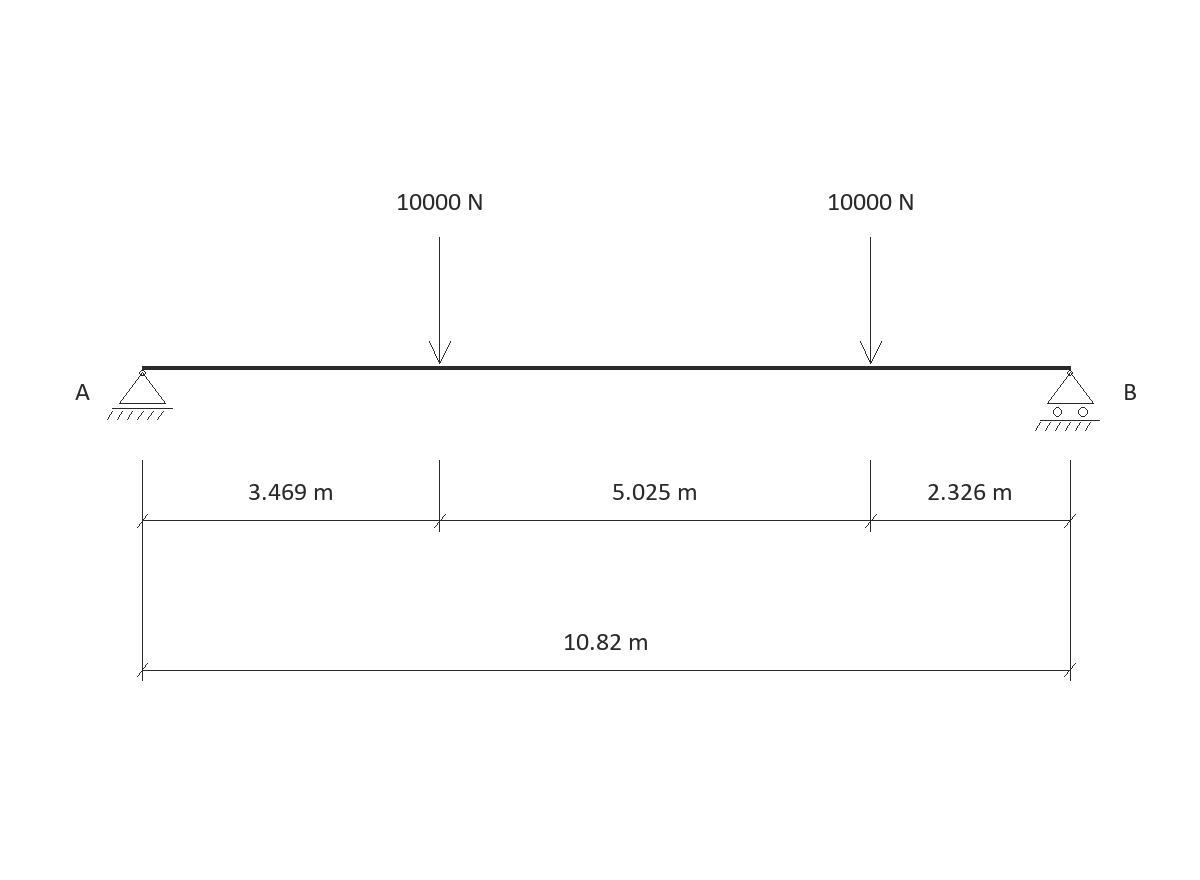pin_support: (107, 370, 173, 420)
point_load: (429, 237, 451, 364), (860, 237, 882, 364)
roller_support: (1035, 370, 1100, 431)
